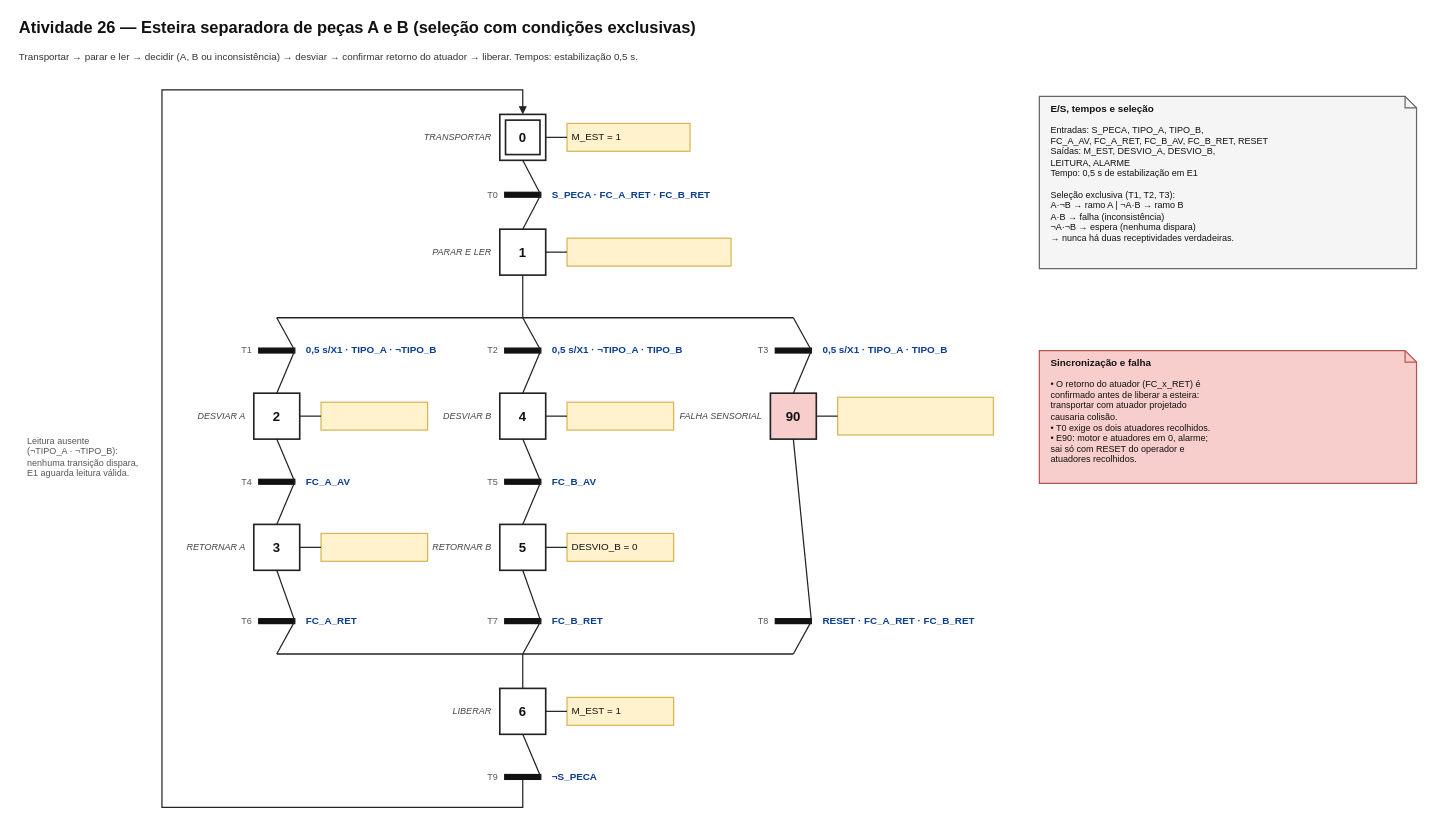
The diagram is 1438 pixels wide and 828 high, and some of its shapes have lost their labels. Each missing label, with the box of its shape:
DESVIO_A = 0: (320, 532, 428, 562)
DESVIO_A = 1: (320, 401, 428, 430)
DESVIO_B = 1: (566, 401, 674, 430)
M_EST = 0 ; DESVIOS = 0 ALARME = 1: (837, 396, 994, 435)
M_EST = 0 ; LEITURA = 1: (566, 237, 731, 266)
